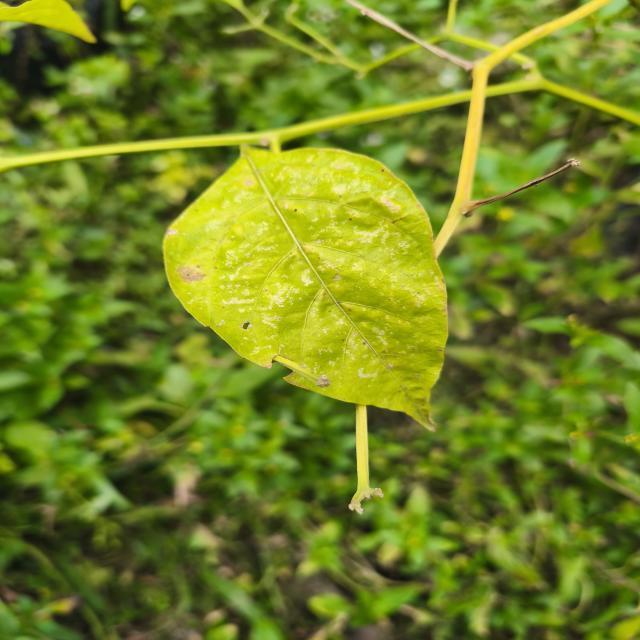Virus Kuning: (162, 142, 450, 434)
